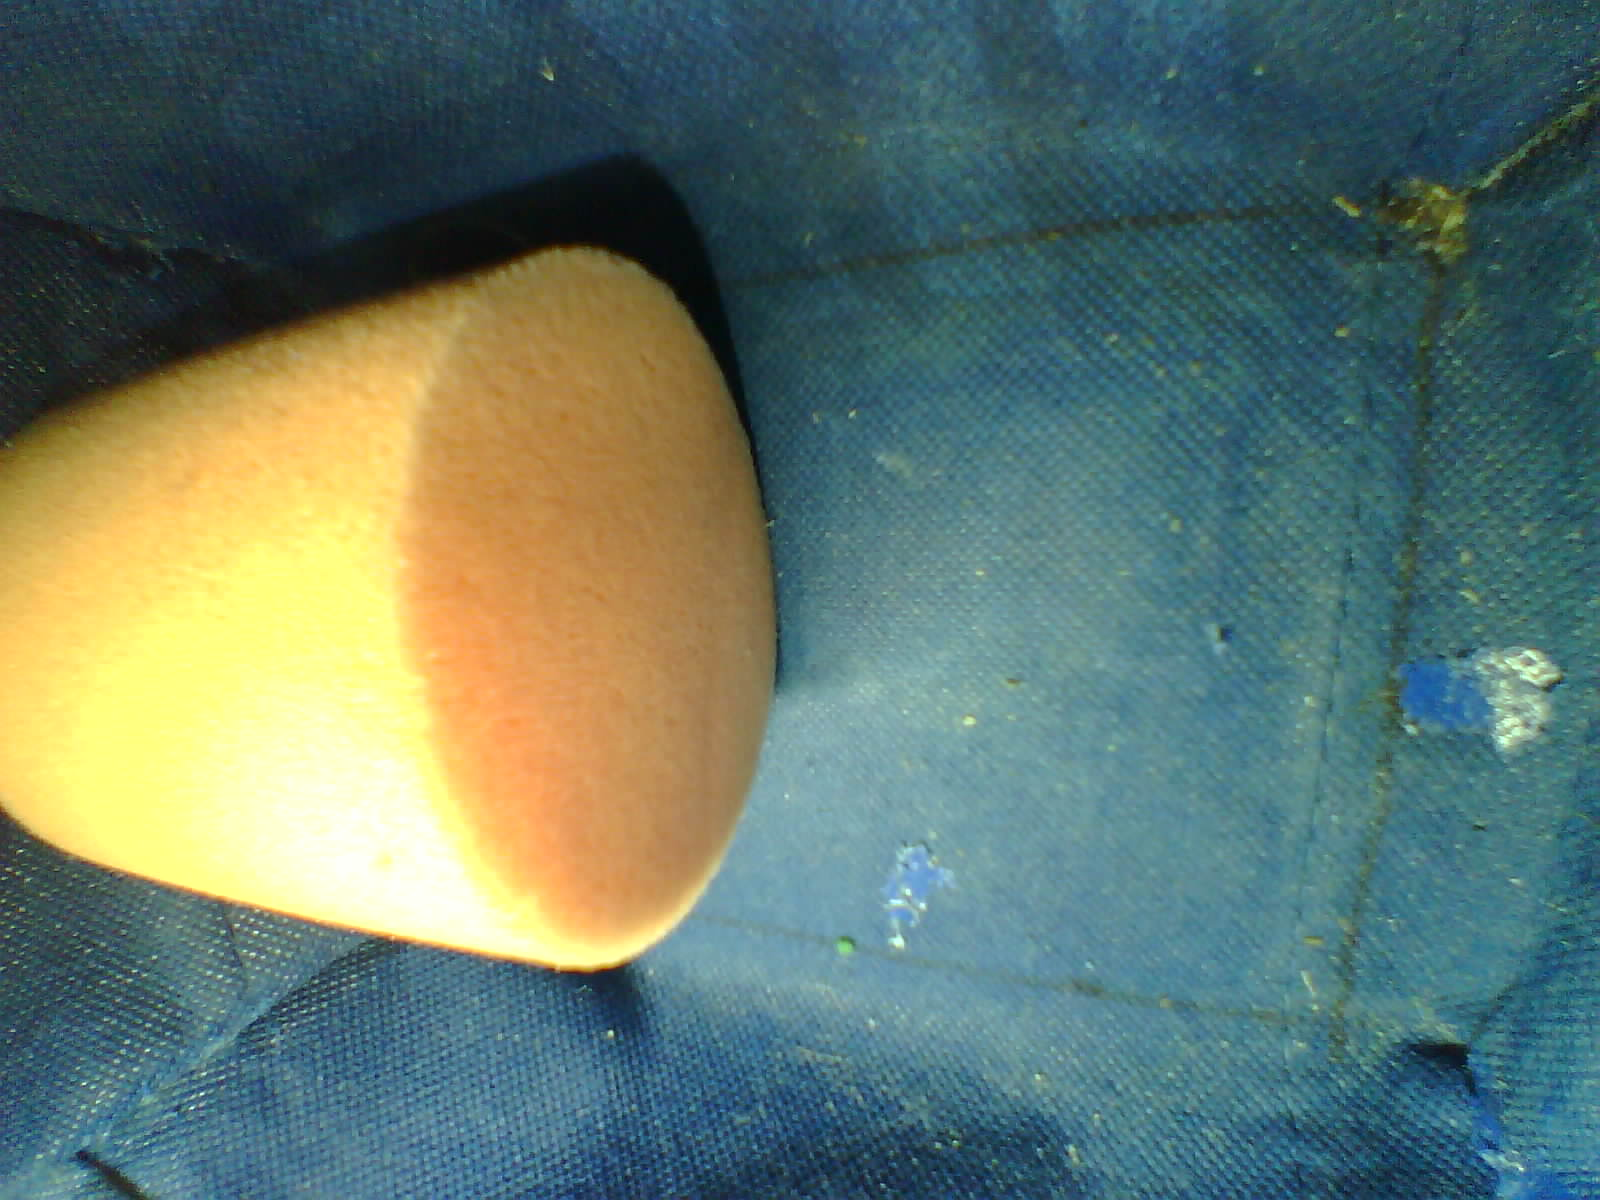cylinder-soft: (0, 242, 794, 996)
